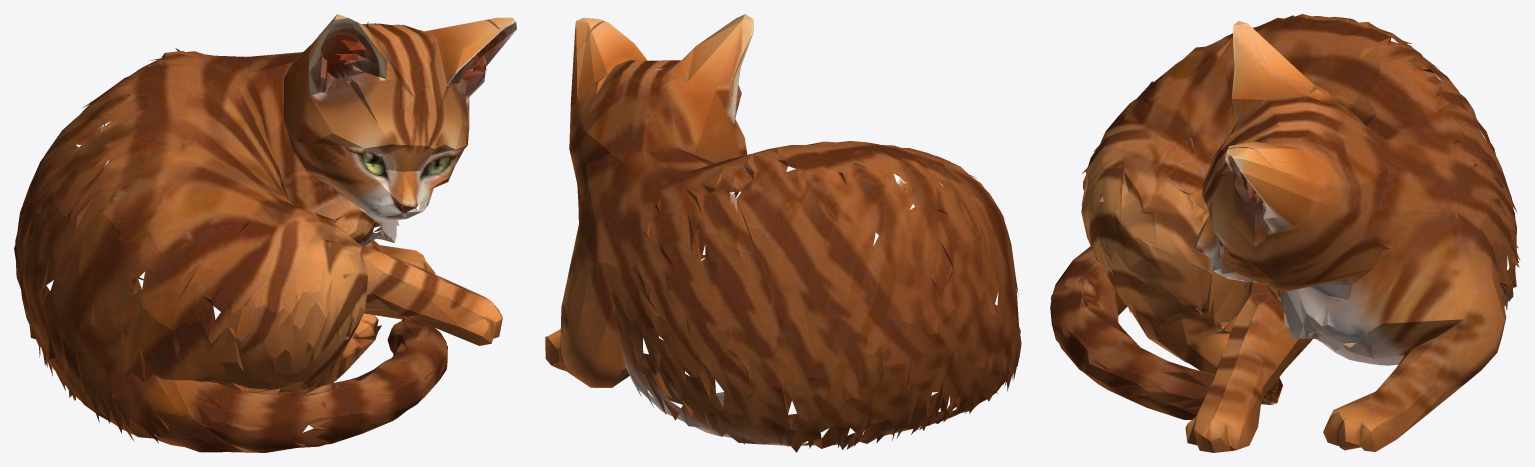
Rendered from chat_clandestin.glb.
3 renders of one model, left to right at view 1: azimuth 30°, elevation 25°; view 2: azimuth 150°, elevation 25°; view 3: azimuth 270°, elevation 25°, orthographic. The views are drawn at different scales.
Bounding box in the file's own units: 1.9 × 1.38 × 1.62.
Materials: 1 (1 with a texture image).
